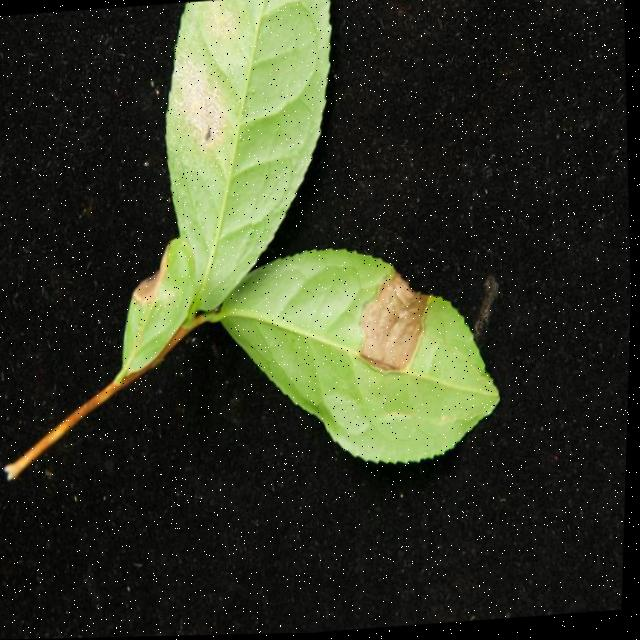Tea exobasidium blight: (329, 238, 445, 406), (165, 55, 227, 152)
